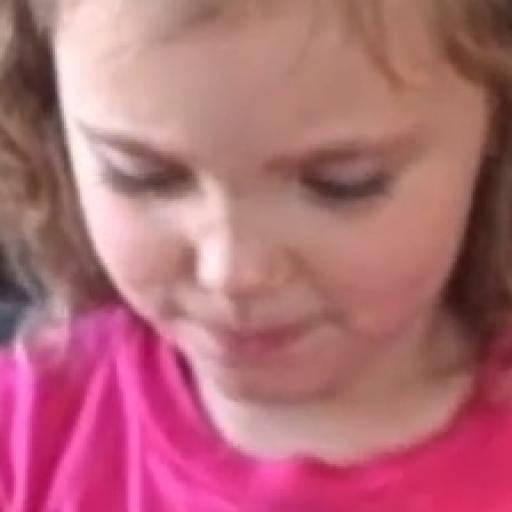Autism: (27, 2, 512, 496)
